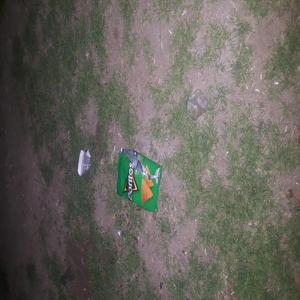plastic: (111, 143, 166, 217), (65, 145, 105, 184)
